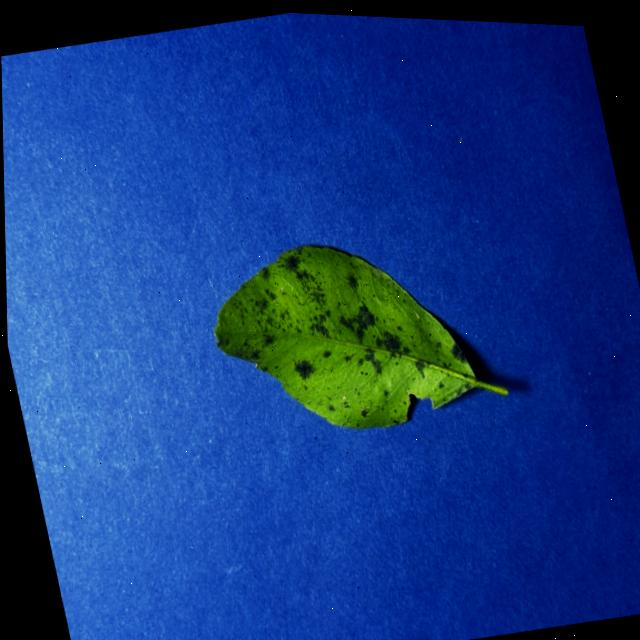sooty_mold: (214, 247, 507, 429)
